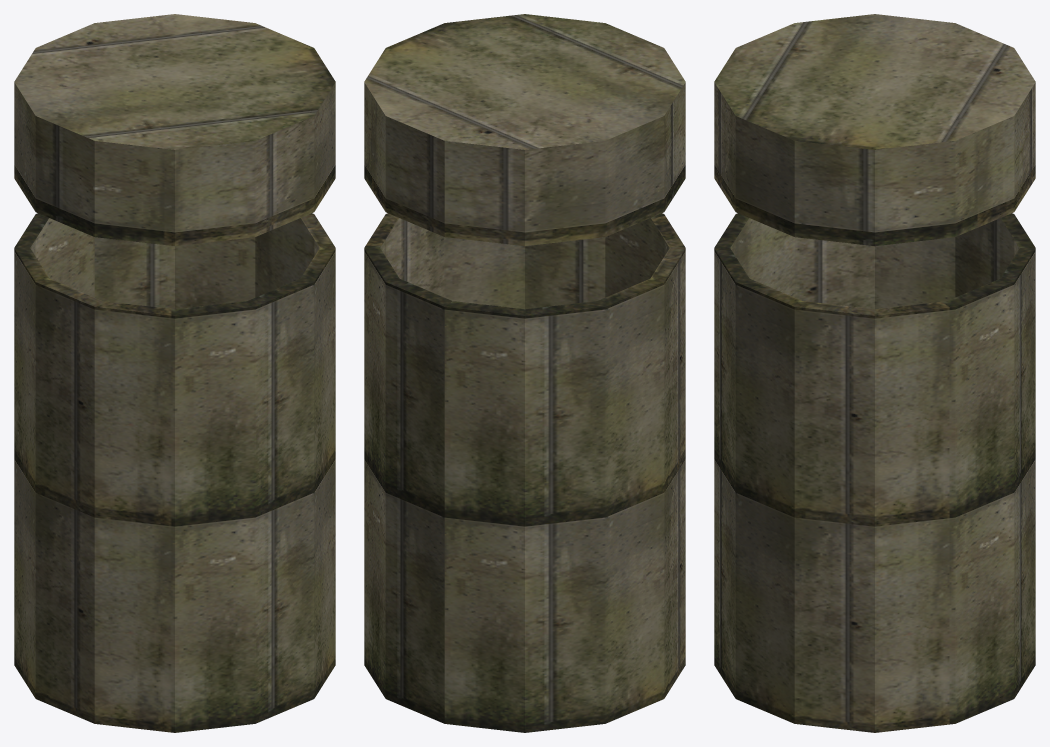
The model's file is MO_SEWER_PILLAR_PLATFORM.fbx.
3 renders of one model, left to right at view 1: azimuth 30°, elevation 25°; view 2: azimuth 150°, elevation 25°; view 3: azimuth 270°, elevation 25°, orthographic.
Parts seen in each view (by area): view 1: MO_SEWER_PILLAR_PLATFORM; view 2: MO_SEWER_PILLAR_PLATFORM; view 3: MO_SEWER_PILLAR_PLATFORM.
Boxes of the visible parts, x1,y1,x2,y2 form: MO_SEWER_PILLAR_PLATFORM: [14, 14, 335, 732]; MO_SEWER_PILLAR_PLATFORM: [364, 14, 685, 732]; MO_SEWER_PILLAR_PLATFORM: [714, 14, 1035, 732].
Size of the model in its own units: 4 by 8 by 4.
